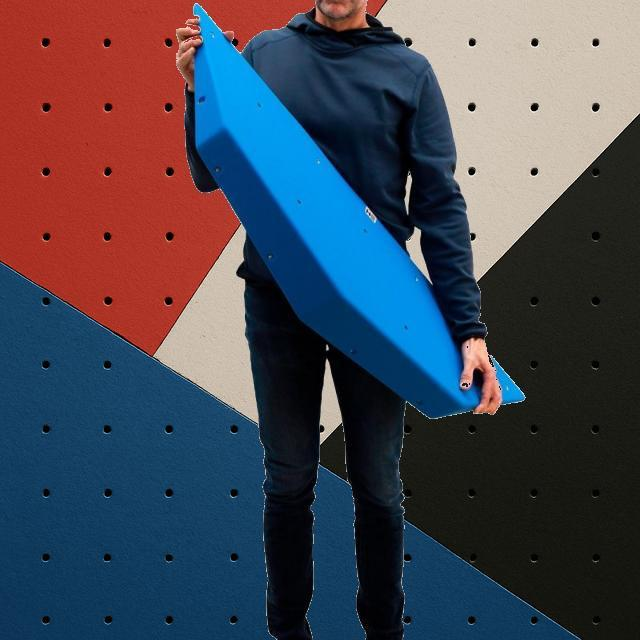Volume: (186, 2, 524, 420)
